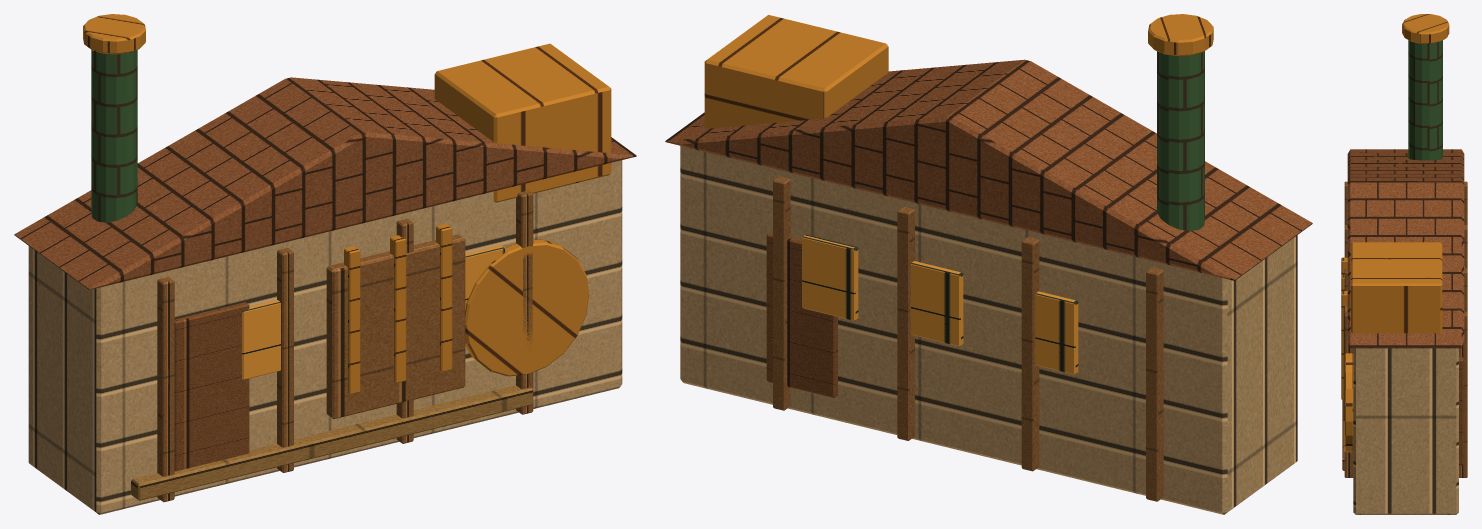
Rendered from stamp-mill.glb.
The picture shows the model from 3 angles, left to right: view 1: azimuth 30°, elevation 25°; view 2: azimuth 150°, elevation 25°; view 3: azimuth 270°, elevation 25°; orthographic projection. The views are drawn at different scales.
Visible parts, largest first — view 1: StampMillFullWrap; view 2: StampMillFullWrap; view 3: StampMillFullWrap.
Boxes of the visible parts, x1,y1,x2,y2 form: StampMillFullWrap: (14,14,636,514); StampMillFullWrap: (665,14,1312,514); StampMillFullWrap: (1341,14,1467,514).
Bounding box in the file's own units: 5.95 × 4.56 × 1.6.
1 material, 1 textured.
